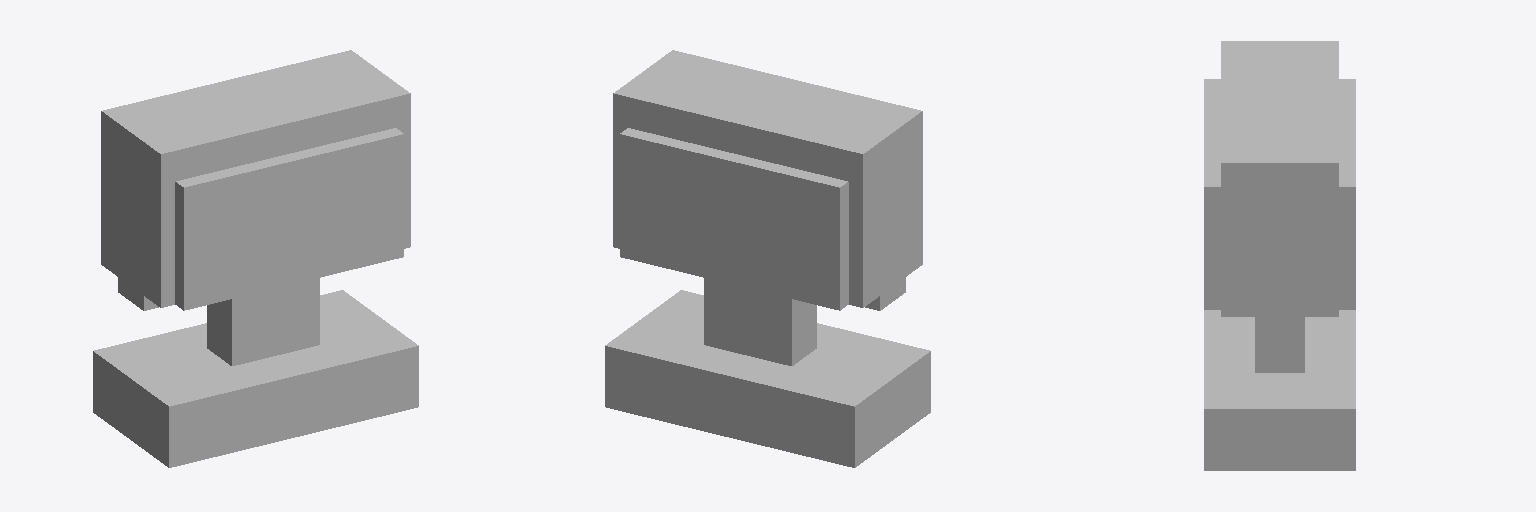
The model's file is monitor_3.obj.
3 views of the same model, side by side, from view 1: azimuth 30°, elevation 25°; view 2: azimuth 150°, elevation 25°; view 3: azimuth 270°, elevation 25° (orthographic).
Visible parts, largest first — view 1: Object_0; view 2: Object_0; view 3: Object_0.
Part boxes in pixels (x1,y1,x2,y2): Object_0: (93, 50, 418, 467); Object_0: (605, 50, 930, 467); Object_0: (1204, 41, 1355, 470).
Bounding box in the file's own units: 1.7 × 2 × 0.9.